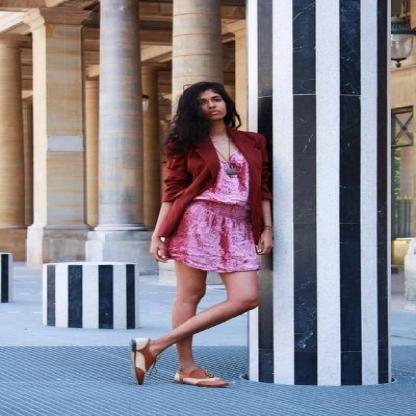dress: (173, 158, 260, 275)
jacket: (158, 125, 274, 245)
shoe: (121, 329, 224, 384)
